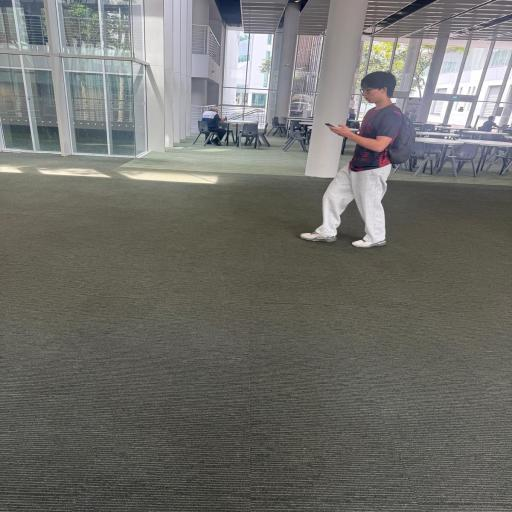person_left: (300, 71, 404, 248)
